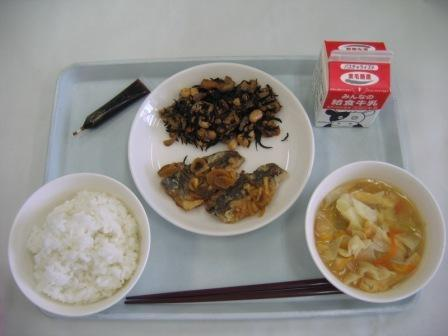Fish: (159, 149, 292, 222)
Milk: (303, 37, 398, 137)
Rice: (9, 180, 151, 311)
Soups: (300, 173, 440, 305)
salad with sauce: (165, 75, 280, 153)
